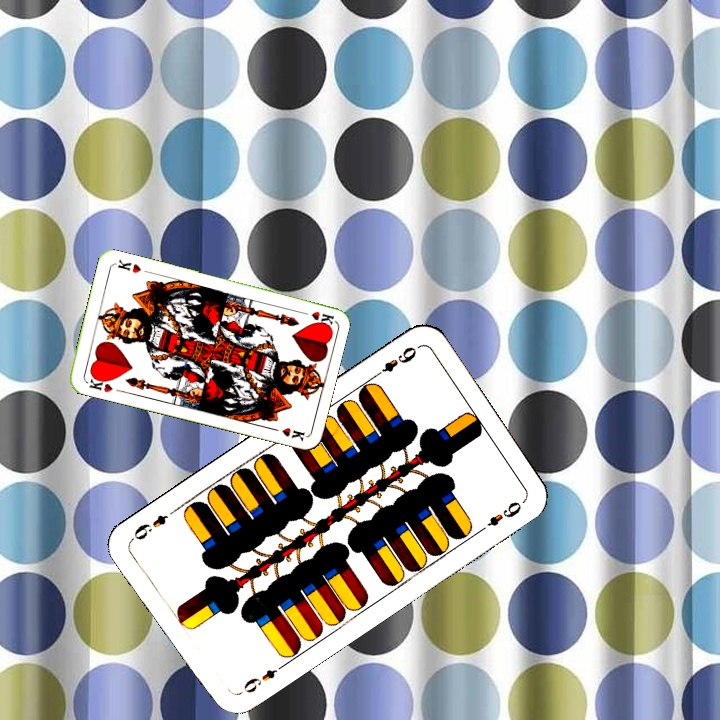E9: (233, 661, 286, 699), (369, 342, 419, 381)
HK: (295, 306, 336, 327), (85, 372, 115, 395)
